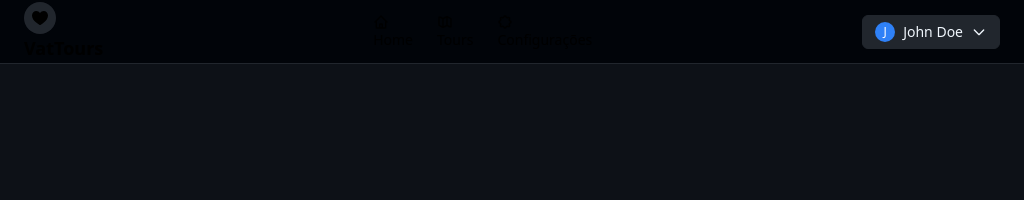
Scenario: HeaderClient Component › should render admin link for admin users
Click the button with aria-label "Menu do usuário: John Doe".
click(931, 32)  # box [862,14,1000,48]
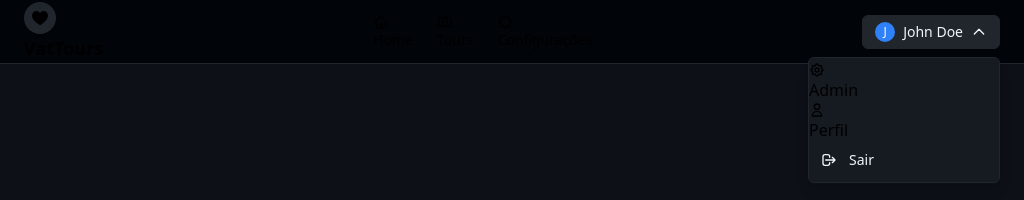
expect the link "Admin" is shown: met, box [809,62,858,100]
